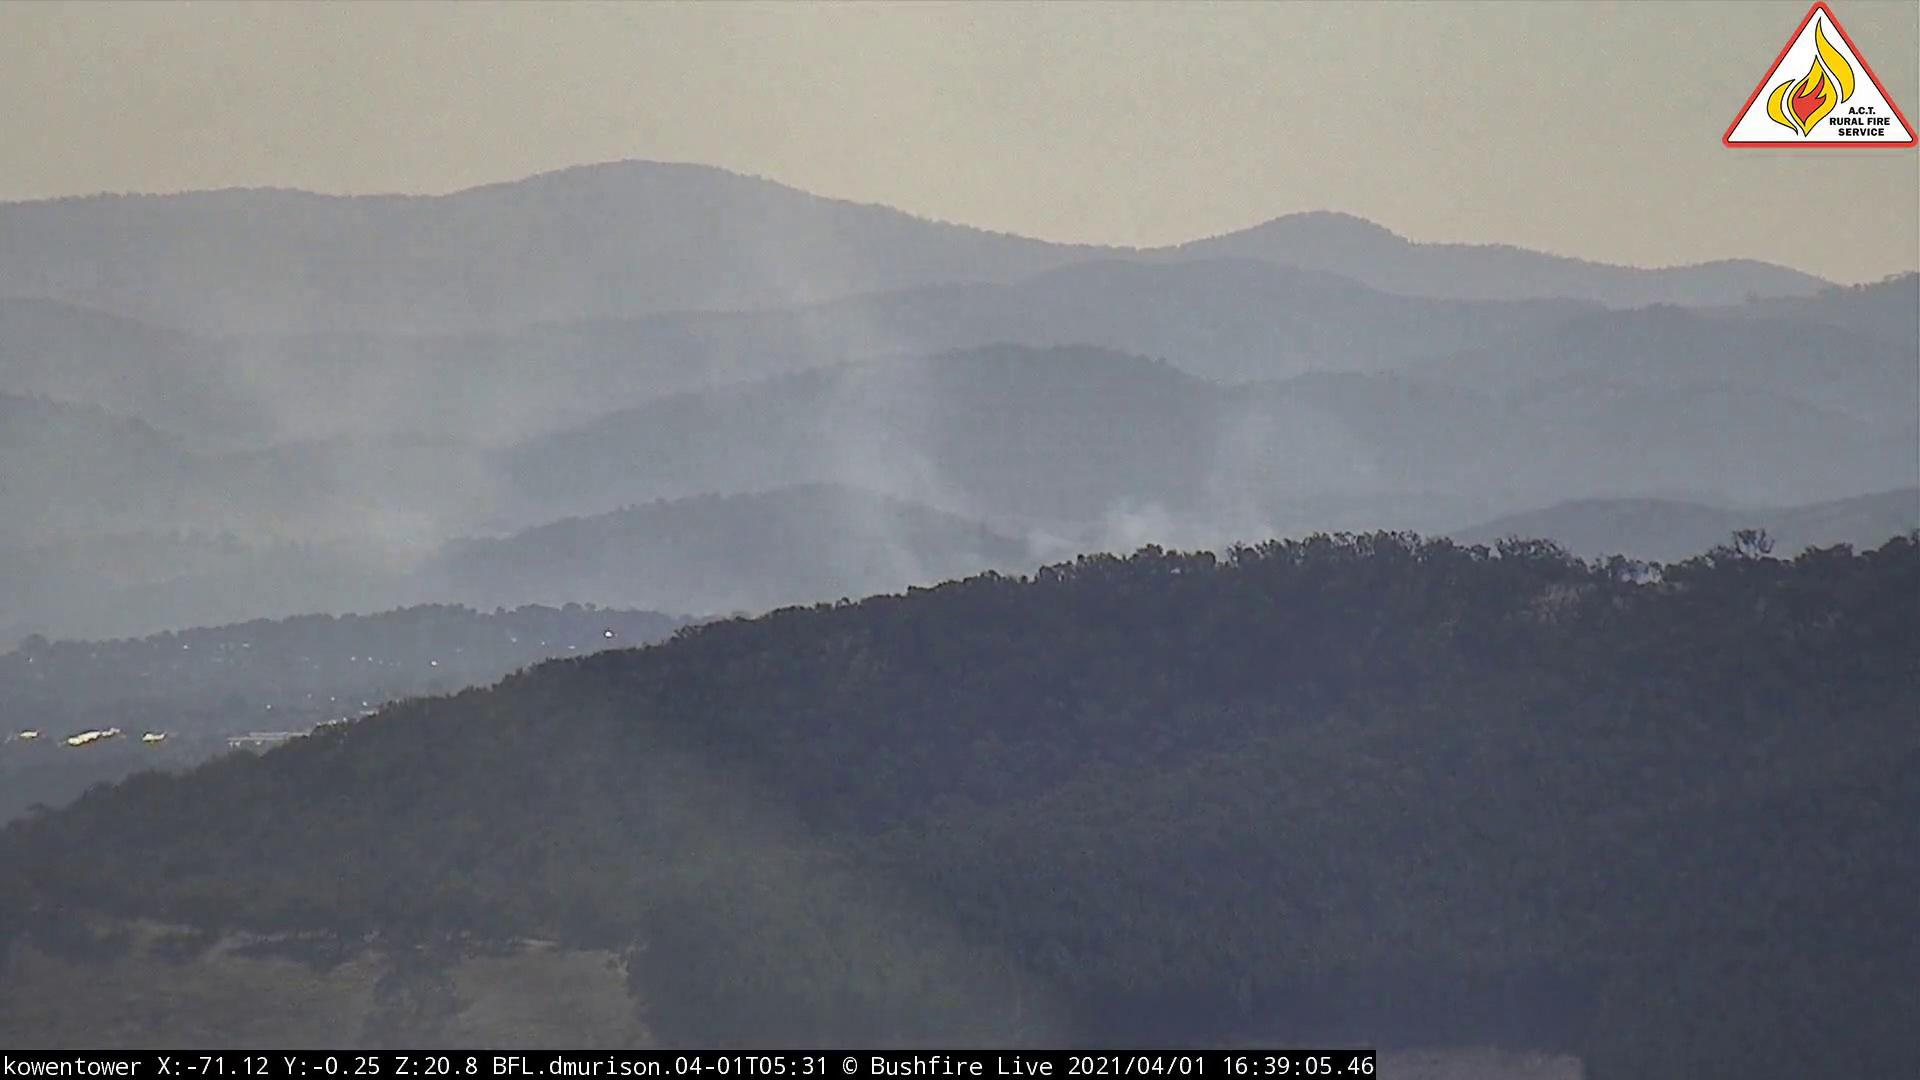Smoke: (735, 233, 1458, 676)
